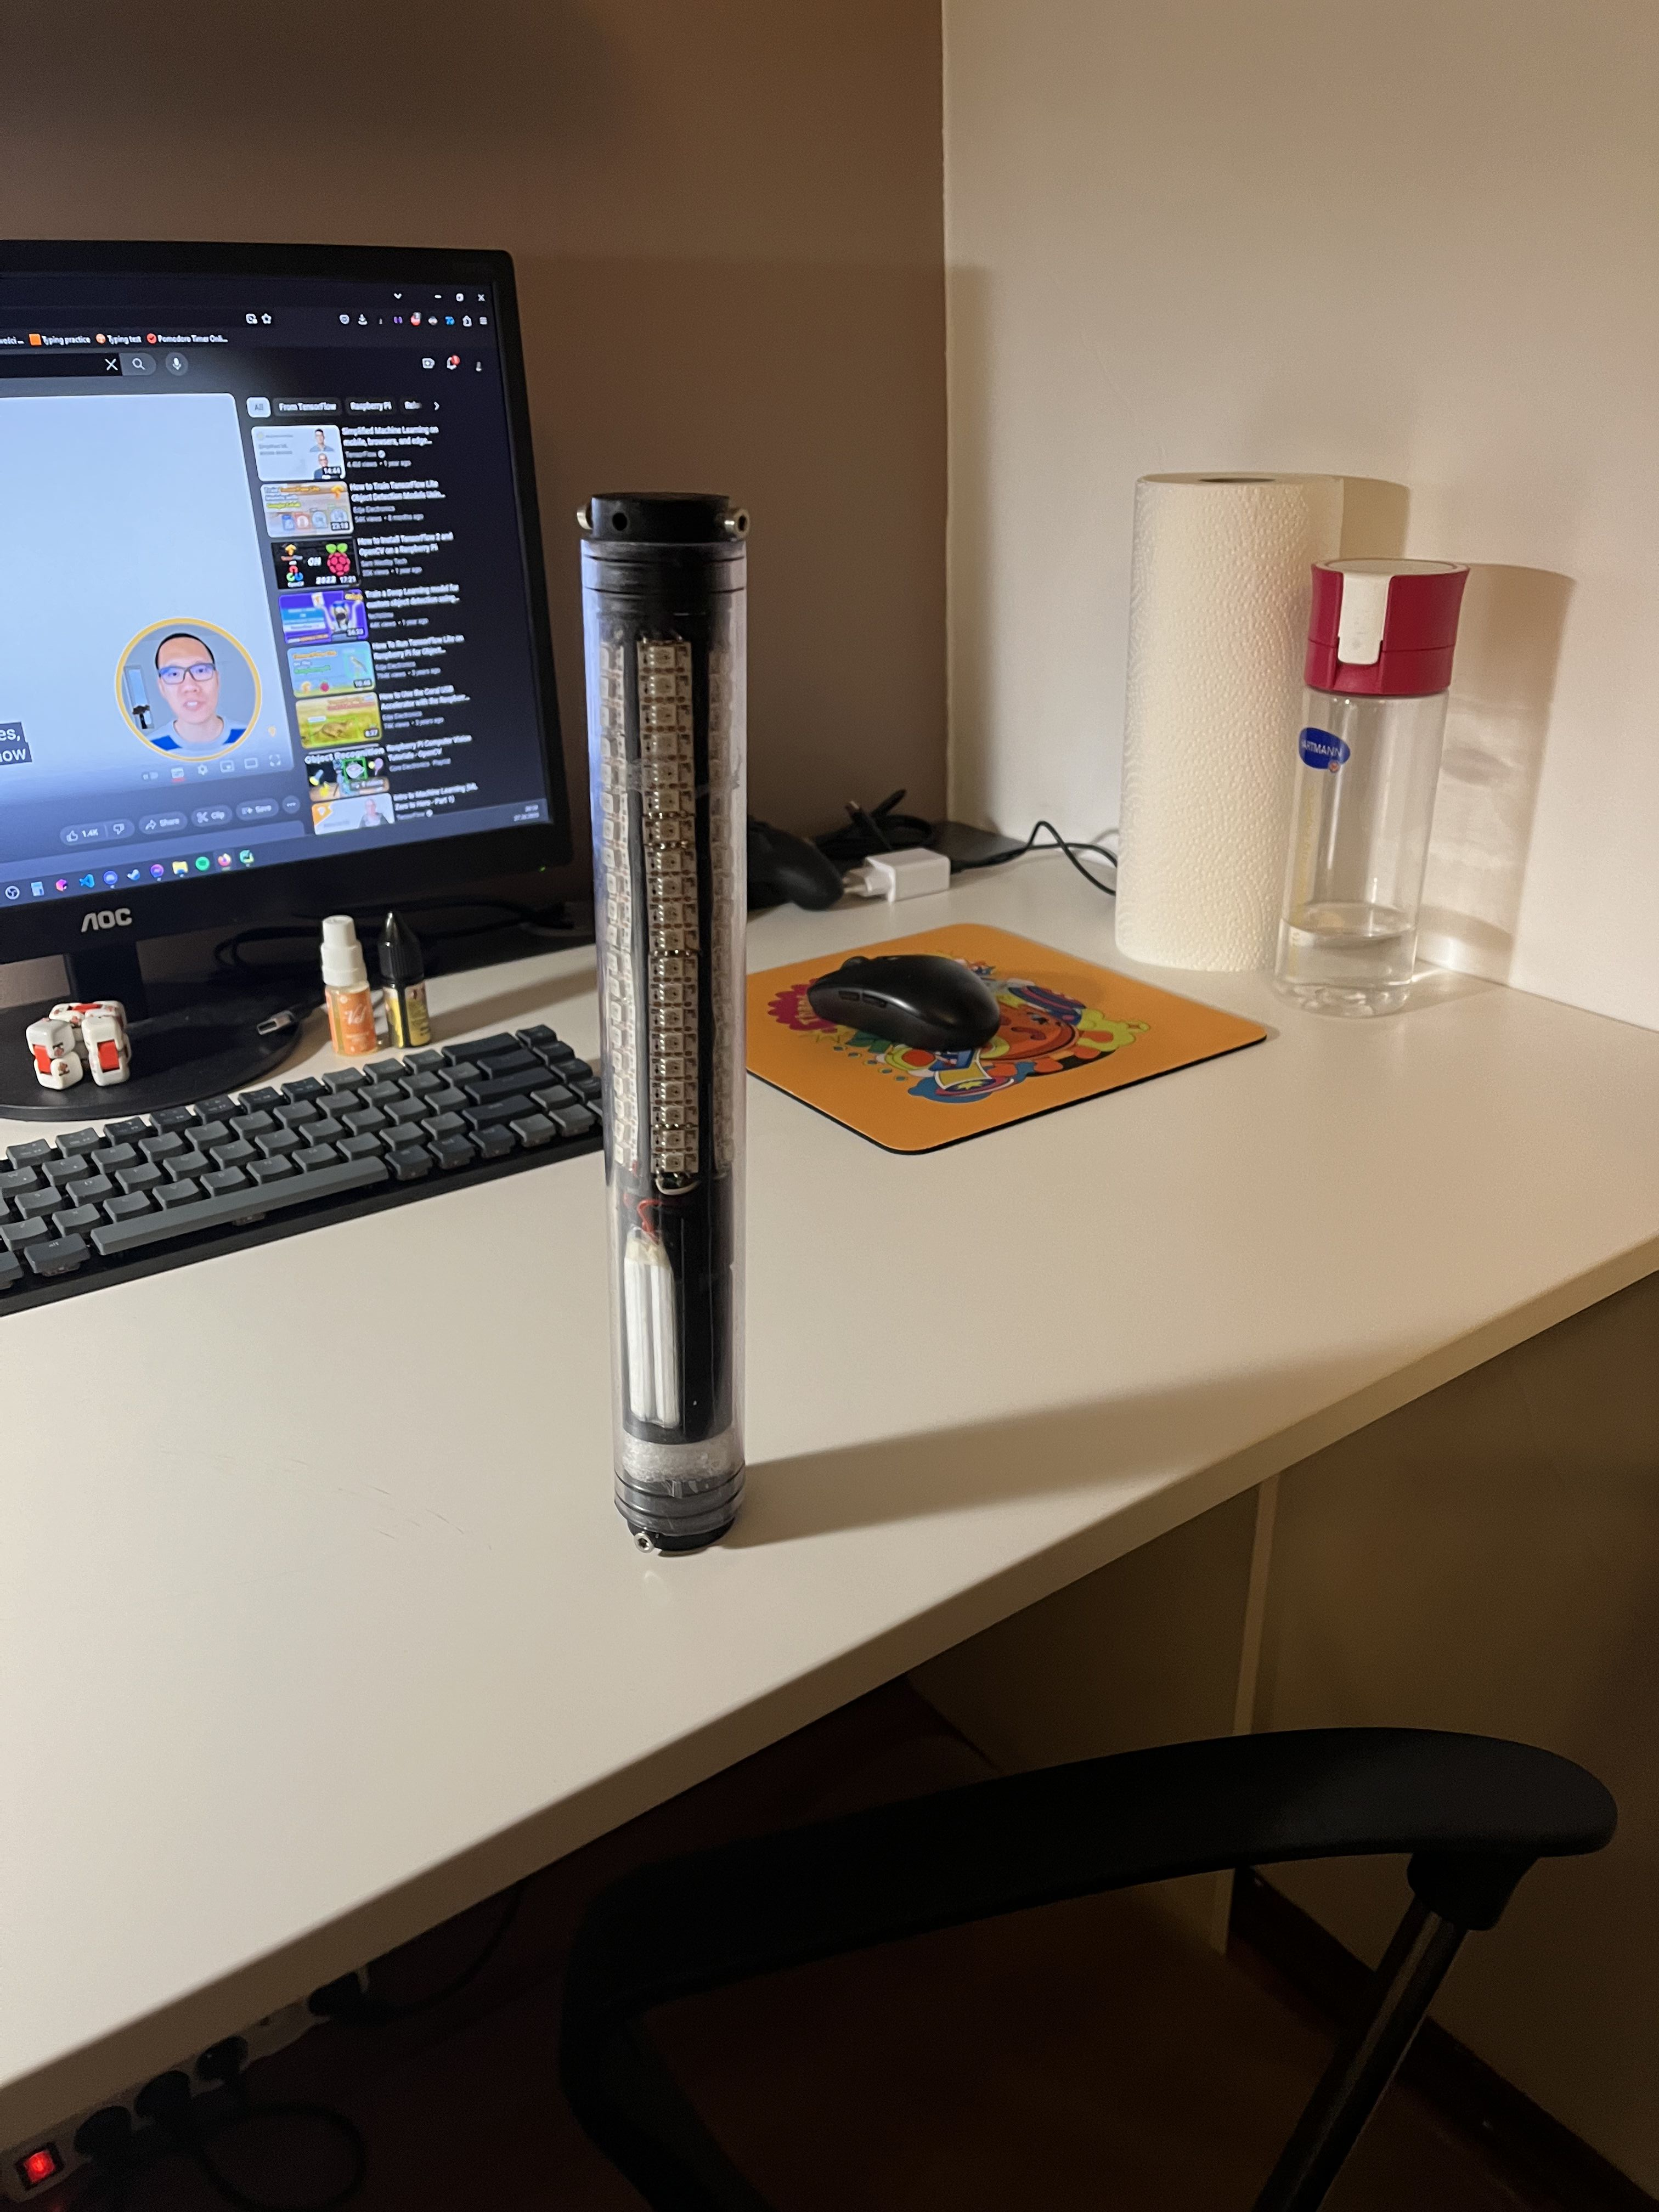black: (612, 540, 744, 1547)
